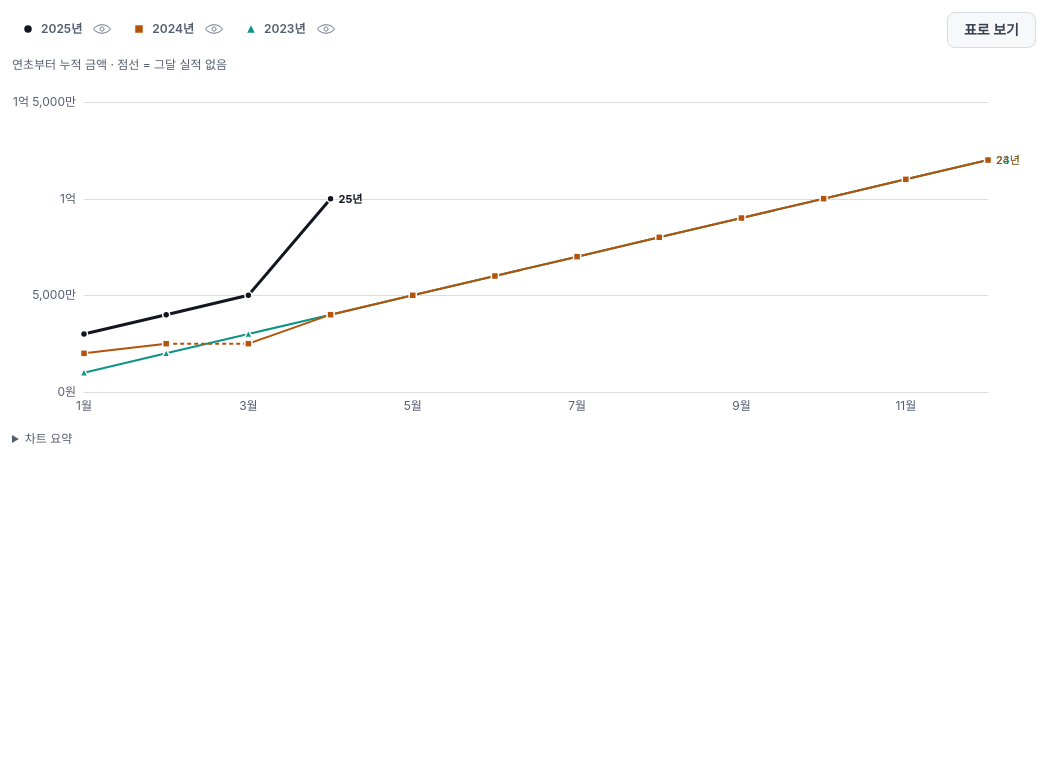
Scenario: YearlyLineChart › 표로 보기 — 행 1~12월 × 열 연도(최근 먼저), 차트와 같은 누적값(백만원), 없는 달 —
This screenshot has width=1048, height=780.
Click the button "표로 보기" at (991, 30), box [947,12,1036,48]
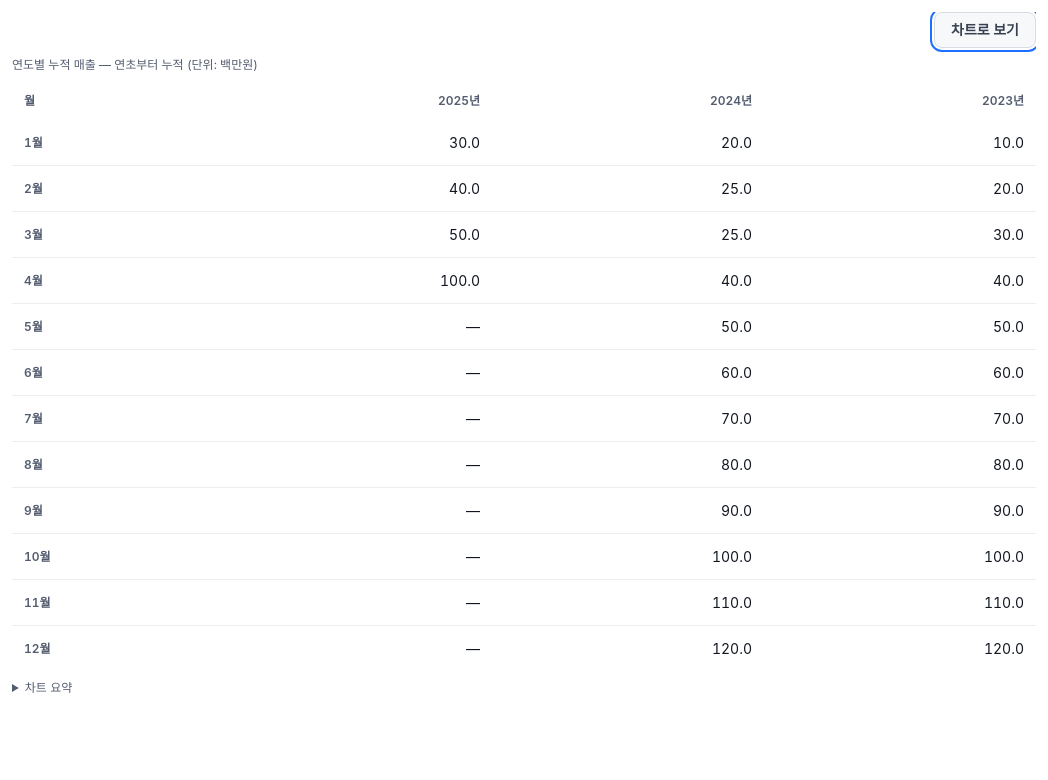
expect the table shows "연초부터 누적 (단위: 백만원)": met
expect the number of rows is 13: met
